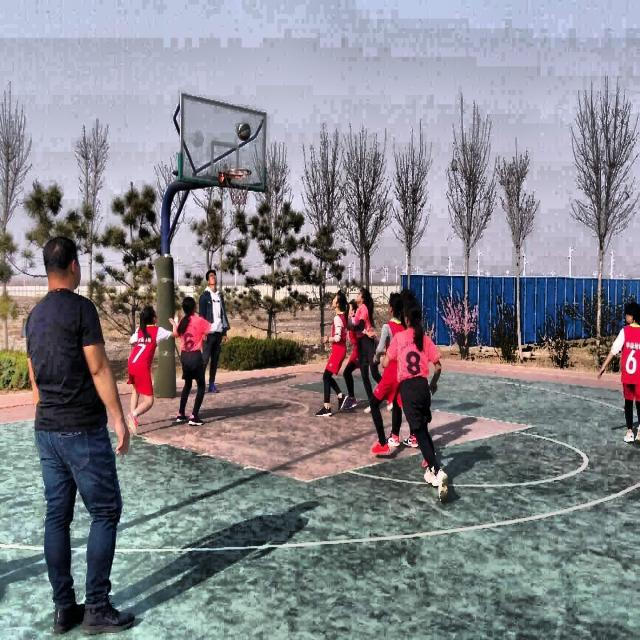board: (237, 122, 251, 140)
rim: (224, 167, 252, 206)
